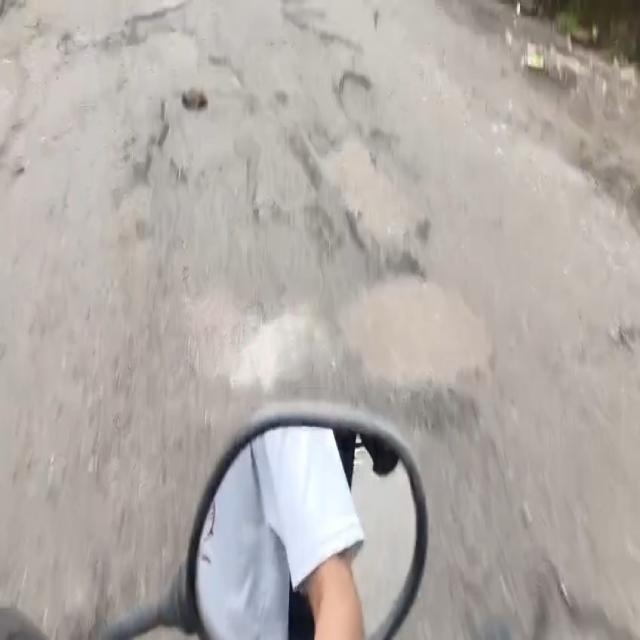road-pothole: (118, 4, 232, 202), (336, 262, 495, 392), (290, 124, 429, 255)
